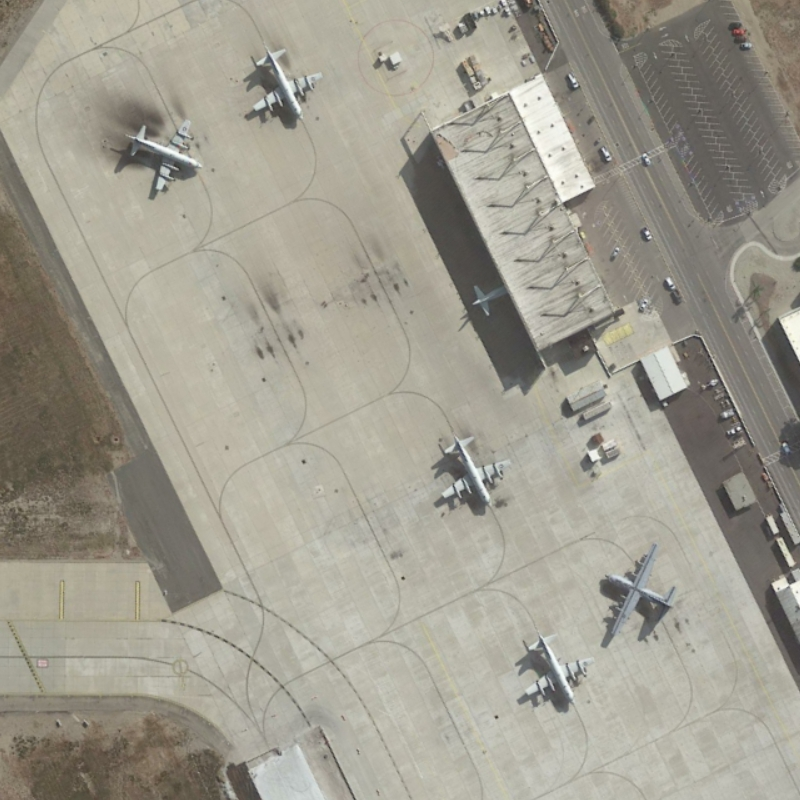A2: (595, 541, 681, 643)
A9: (116, 115, 207, 198), (249, 39, 327, 130), (439, 431, 517, 511), (520, 625, 594, 709)
